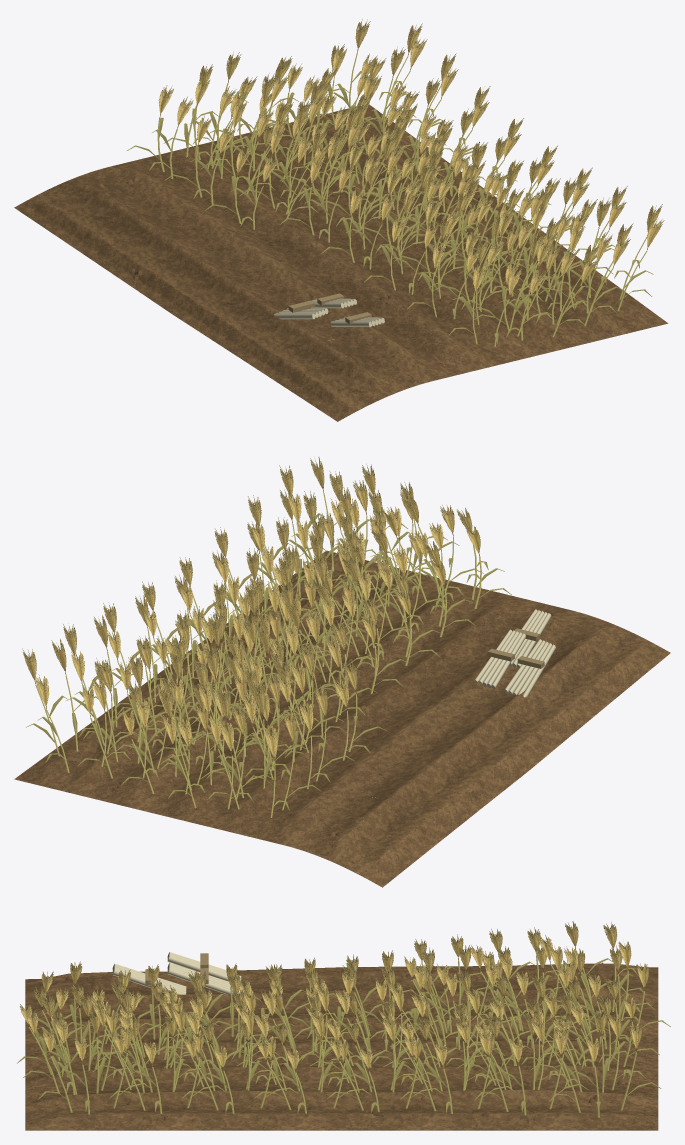
The model's file is field.glb.
The picture shows the model from 3 angles, top to bottom: view 1: azimuth 30°, elevation 25°; view 2: azimuth 150°, elevation 25°; view 3: azimuth 270°, elevation 25°; orthographic projection. The views are drawn at different scales.
Visible parts, largest first — view 1: field-district-wet-silt, game-field-barley, field-district-dry-straw; view 2: field-district-wet-silt, game-field-barley, field-district-dry-straw; view 3: field-district-wet-silt, game-field-barley, field-district-dry-straw.
Part boxes in pixels (x1=…): field-district-wet-silt: x1=14, y1=104, x2=668, y2=421; game-field-barley: x1=127, y1=19, x2=664, y2=346; field-district-dry-straw: x1=274, y1=297, x2=384, y2=327; field-district-wet-silt: x1=14, y1=550, x2=670, y2=887; game-field-barley: x1=22, y1=457, x2=511, y2=817; field-district-dry-straw: x1=475, y1=609, x2=555, y2=697; field-district-wet-silt: x1=25, y1=962, x2=658, y2=1130; game-field-barley: x1=17, y1=921, x2=670, y2=1117; field-district-dry-straw: x1=112, y1=952, x2=241, y2=994.
Size of the model in its own units: 3.91 by 1.15 by 5.5.
4 materials, 3 textured.
